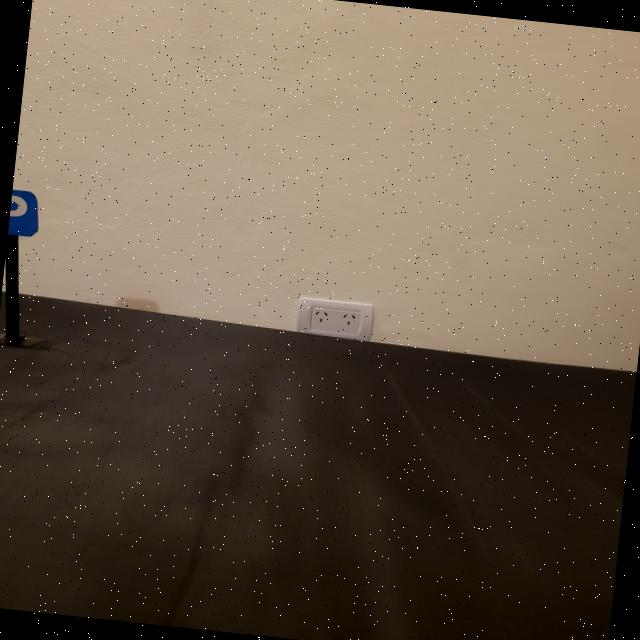parking: (7, 188, 42, 237)
